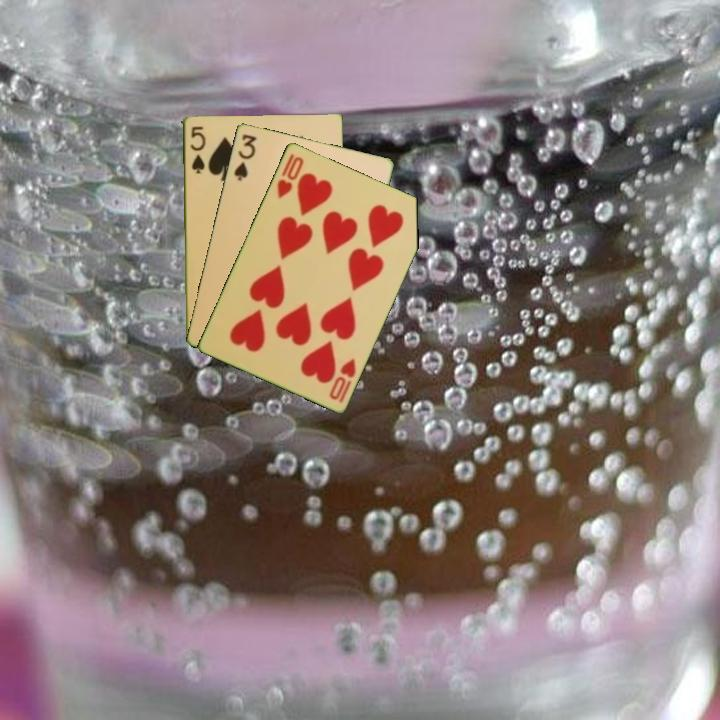10h: (325, 355, 359, 405), (273, 150, 306, 201)
3s: (230, 130, 260, 183)
5s: (187, 123, 207, 176)
